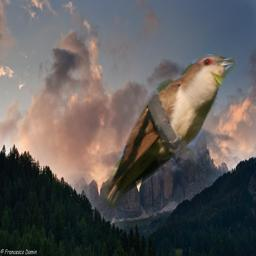Cuckoo: (100, 54, 235, 212)
